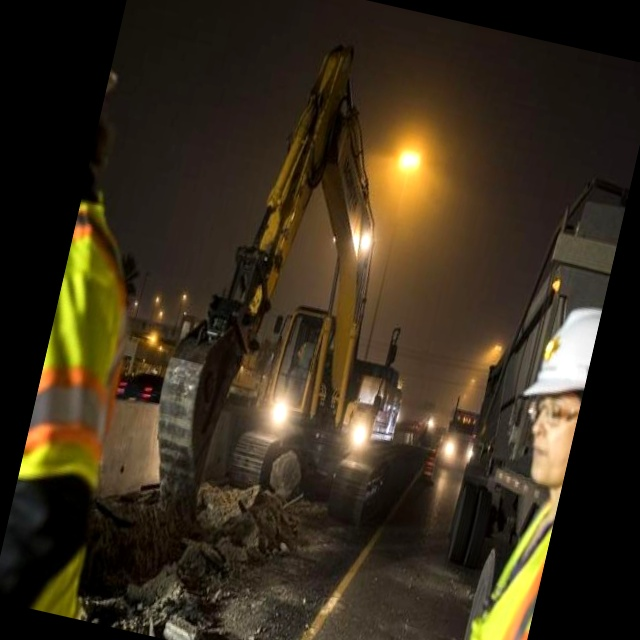Con_Casco: (506, 295, 603, 486)
Con_Chaleco: (0, 197, 159, 617), (445, 485, 559, 640)
